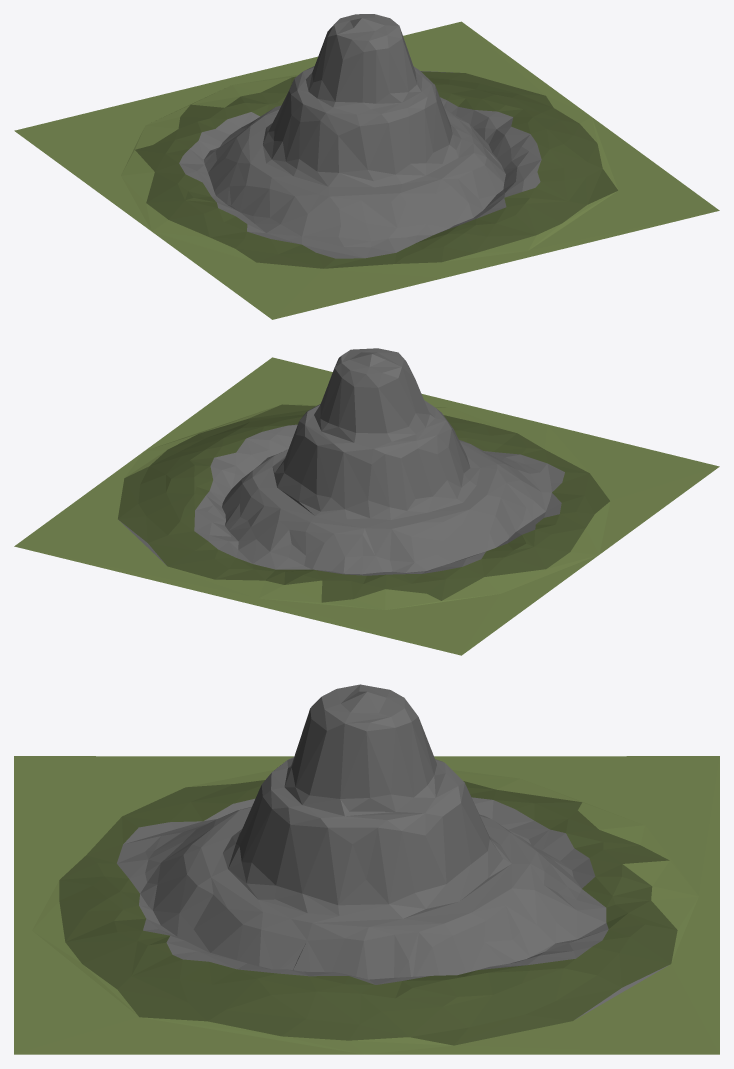
File: Terrain_21.fbx
The picture shows the model from 3 angles, top to bottom: view 1: azimuth 30°, elevation 25°; view 2: azimuth 150°, elevation 25°; view 3: azimuth 270°, elevation 25°; orthographic projection. The views are drawn at different scales.
Visible parts, largest first — view 1: Terrain_21; view 2: Terrain_21; view 3: Terrain_21.
Boxes of the visible parts, <box> form: Terrain_21: <box>14,14,719,319</box>; Terrain_21: <box>14,348,719,655</box>; Terrain_21: <box>14,684,719,1054</box>.
Size of the model in its own units: 20000 by 6570 by 20000.
